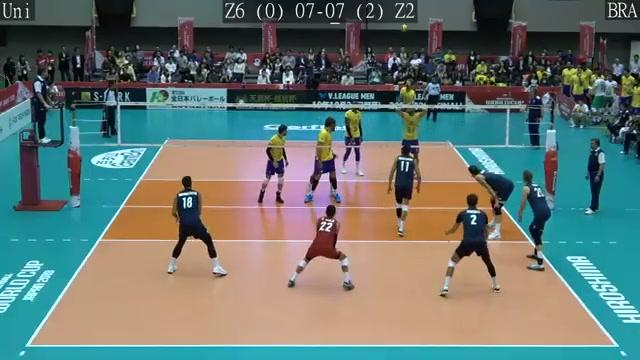ball: (400, 22, 409, 30)
